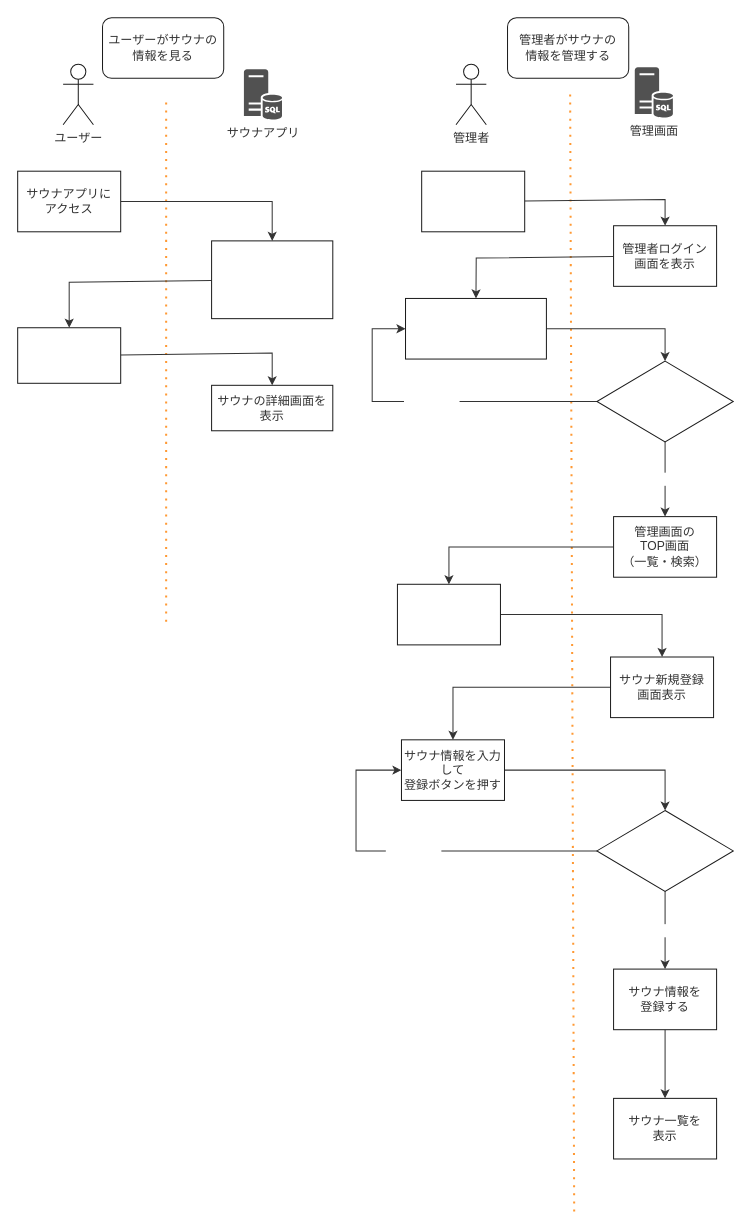
This 751x1231 diagram has some shape labels left out. Here are the shapes that lost their labels. From the top down, the centre of each, then its label:
pixel 473 201: 管理画面に アクセス
pixel 272 279: サウナアプリ TOP画面 （一覧・検索画面） を表示
pixel 475 328: ログイン情報を入力し、ログインボタンを押す
pixel 69 355: サウナ施設を検索 もしくは一覧から 選択
pixel 664 401: ログイン情報を 検証する
pixel 448 614: サウナ新規登録ボタンを押す
pixel 664 850: バリデーションを チェックする
